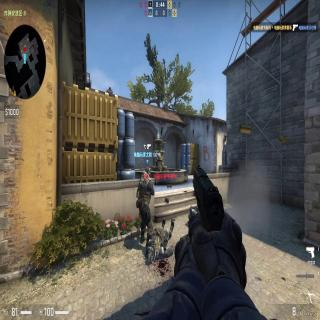CT-Body: (135, 166, 152, 243)
CT-Head: (144, 166, 151, 179)
